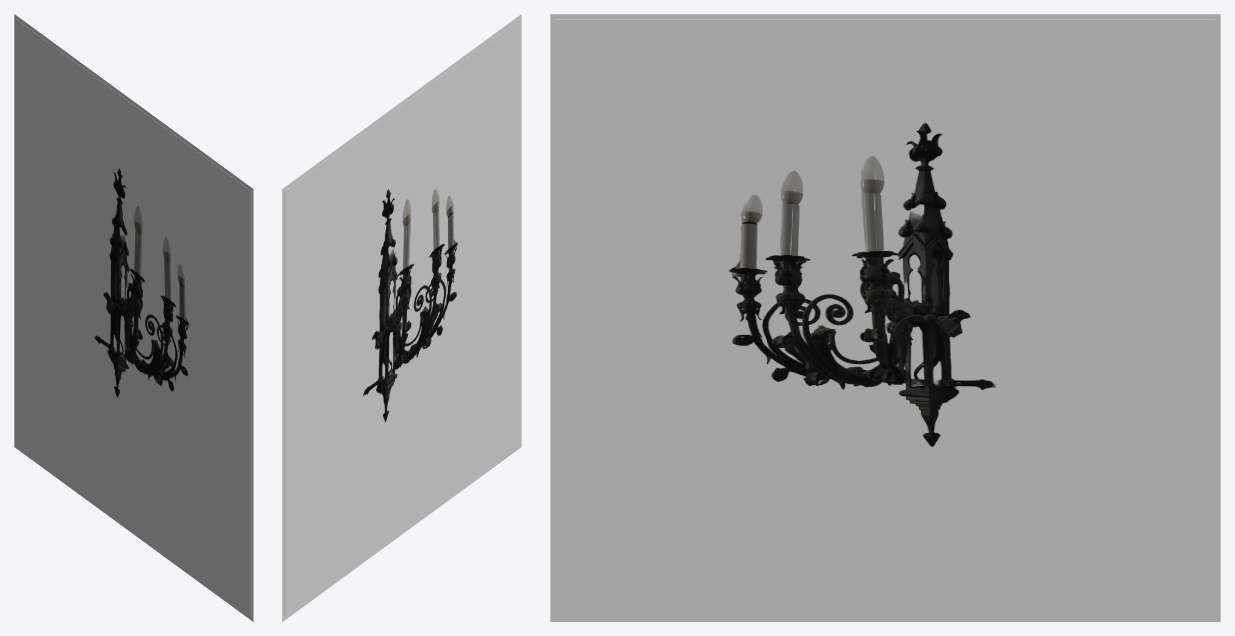
The model's file is 41-47. Kinkiety.glb.
The picture shows the model from 3 angles, left to right: view 1: azimuth 30°, elevation 25°; view 2: azimuth 150°, elevation 25°; view 3: azimuth 270°, elevation 25°; orthographic projection. The views are drawn at different scales.
Visible parts, largest first — view 1: Plane; view 2: Plane; view 3: Plane.
Boxes of the visible parts, <box> form: Plane: <box>14,14,253,621</box>; Plane: <box>282,14,521,621</box>; Plane: <box>550,14,1220,621</box>.
Size of the model in its own units: 0.0246 by 16 by 16.
Materials: 1 (1 with a texture image).
